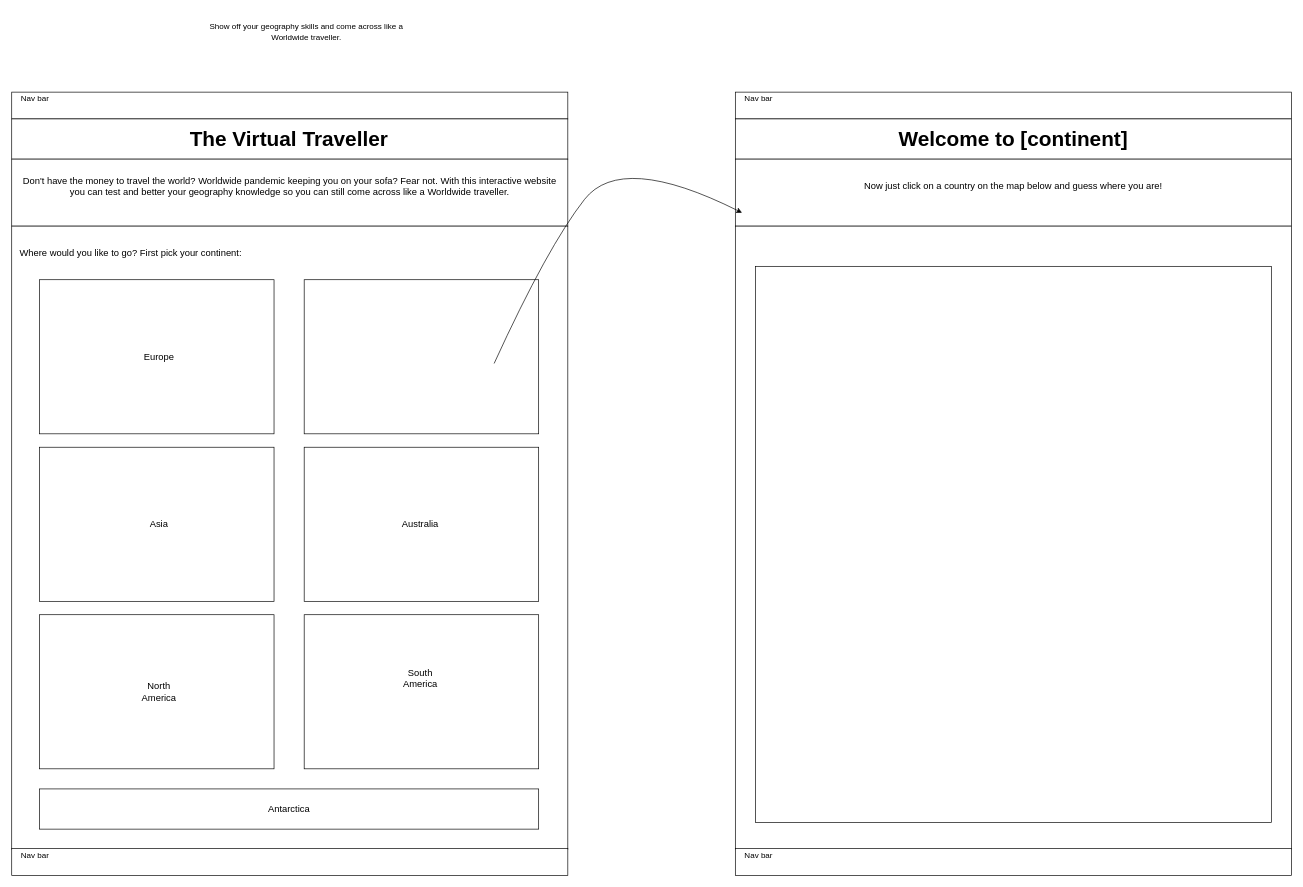
The diagram is 1303 pixels wide and 887 high, and some of its shapes have lost their labels. Each missing label, with the box of its shape:
[Map of continent]: (755, 266, 1271, 822)
Africa: (304, 279, 539, 434)
